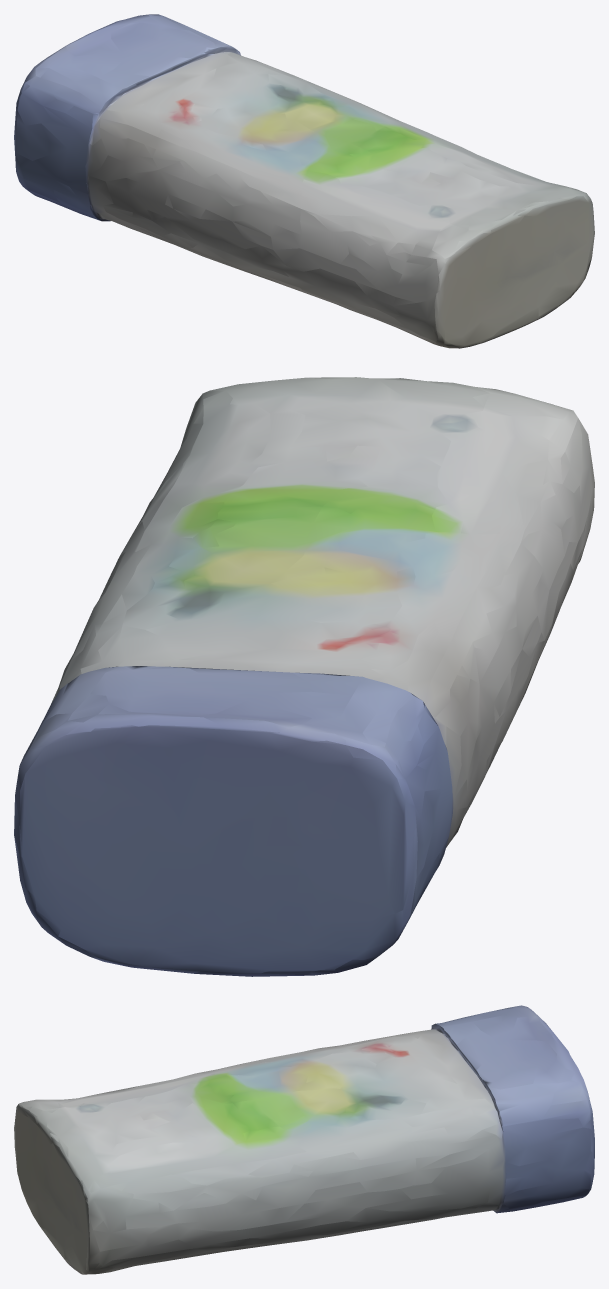
File: 0003_mask_004_white_bottle.glb
The picture shows the model from 3 angles, top to bottom: view 1: azimuth 30°, elevation 25°; view 2: azimuth 150°, elevation 25°; view 3: azimuth 270°, elevation 25°; orthographic projection. The views are drawn at different scales.
Visible parts, largest first — view 1: mask_004_object; view 2: mask_004_object; view 3: mask_004_object.
Part boxes in pixels (x1,y1,x2,y2): mask_004_object: (14, 14, 594, 348); mask_004_object: (14, 377, 594, 976); mask_004_object: (14, 1005, 594, 1274).
Size of the model in its own units: 0.1425 by 0.0568 by 0.2115.
